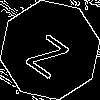Z: (25, 25, 76, 80)
